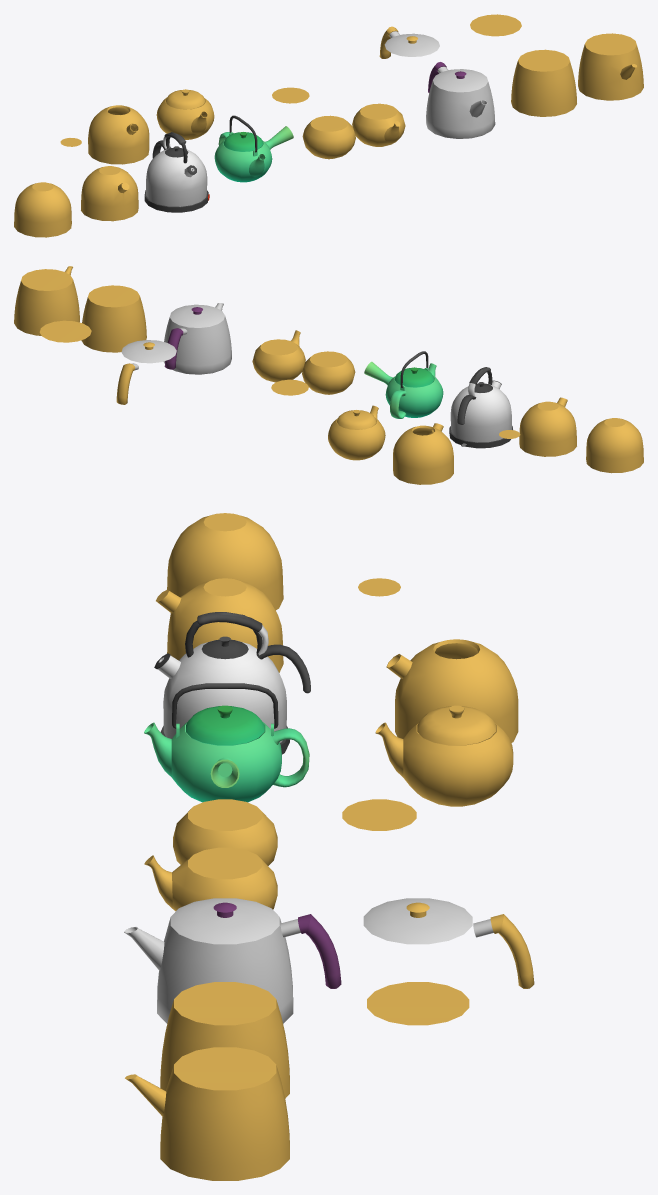
File: teapotKettle.fbx
3 views of the same model, one above another, from view 1: azimuth 30°, elevation 25°; view 2: azimuth 150°, elevation 25°; view 3: azimuth 270°, elevation 25° (orthographic). The views are drawn at different scales.
Parts seen in each view (by area): view 1: teapot_Double_Liquid_2_Volume, teapot_Double_Liquid_1_Volume, teapot_Double, kettle, kettle_p, kettle_Liquid_1_Volume, kettle_Liquid_2_Volume, teapot_Liquid_1_Volume, teapot_Liquid_2_Volume, teapot_p, teapot, teapot_Double_Lid_p (+6 smaller); view 2: teapot_Double_Liquid_1_Volume, teapot_Double_Liquid_2_Volume, kettle, kettle_Liquid_2_Volume, teapot_Double, kettle_Liquid_1_Volume, kettle_p, teapot_Liquid_2_Volume, teapot_Liquid_1_Volume, teapot, teapot_p, teapot_Double_Lid_p (+10 smaller); view 3: teapot_Double_Liquid_2_Volume, kettle, teapot_Double_Liquid_1_Volume, teapot_Double, kettle_Liquid_1_Volume, teapot, kettle_p, teapot_p, kettle_Liquid_2_Volume, teapot_Liquid_2_Volume, teapot_Liquid_1_Volume, teapot_Double_Lid (+9 smaller).
Part boxes in pixels (x1,y1,x2,y2): teapot_Double_Liquid_2_Volume: (578, 33, 643, 100); teapot_Double_Liquid_1_Volume: (511, 49, 576, 116); teapot_Double: (426, 80, 495, 138); kettle: (88, 105, 149, 164); kettle_p: (146, 148, 207, 206); kettle_Liquid_1_Volume: (14, 182, 71, 237); kettle_Liquid_2_Volume: (81, 166, 138, 221); teapot_Liquid_1_Volume: (302, 115, 355, 159); teapot_Liquid_2_Volume: (352, 103, 405, 146); teapot_p: (214, 140, 272, 182); teapot: (156, 97, 214, 139); teapot_Double_Lid_p: (433, 69, 488, 92); teapot_Double_Liquid_1_Volume: (81, 285, 146, 352); teapot_Double_Liquid_2_Volume: (14, 266, 79, 335); kettle: (393, 423, 453, 484); kettle_Liquid_2_Volume: (519, 397, 576, 456); teapot_Double: (163, 303, 231, 374); kettle_Liquid_1_Volume: (586, 418, 643, 473); kettle_p: (450, 381, 511, 442); teapot_Liquid_2_Volume: (252, 330, 305, 382); teapot_Liquid_1_Volume: (302, 351, 355, 394); teapot: (328, 405, 385, 460); teapot_p: (385, 363, 443, 417); teapot_Double_Lid_p: (170, 304, 224, 327); teapot_Double_Liquid_2_Volume: (125, 1047, 289, 1180); kettle: (386, 639, 518, 742); teapot_Double_Liquid_1_Volume: (160, 982, 289, 1098); teapot_Double: (124, 917, 293, 1023); kettle_Liquid_1_Volume: (167, 513, 283, 610); teapot: (375, 721, 513, 806); kettle_p: (157, 641, 286, 742); teapot_p: (144, 722, 281, 802); kettle_Liquid_2_Volume: (156, 578, 283, 672); teapot_Liquid_2_Volume: (144, 847, 277, 911); teapot_Liquid_1_Volume: (173, 799, 277, 865); teapot_Double_Lid: (363, 898, 472, 944).
Size of the model in its own units: 18.6 by 5.32 by 1.86.
